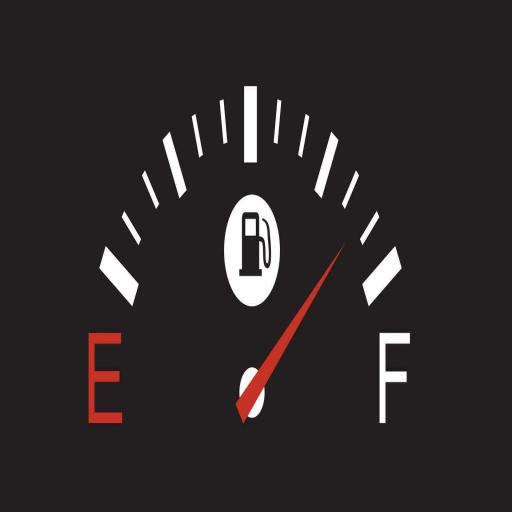empty: (87, 329, 124, 424)
fuel_icon: (227, 194, 276, 303)
full: (377, 328, 411, 424)
guage_area: (82, 82, 415, 430)
needle_center: (235, 360, 267, 421)
needle_tip: (330, 239, 346, 270)
